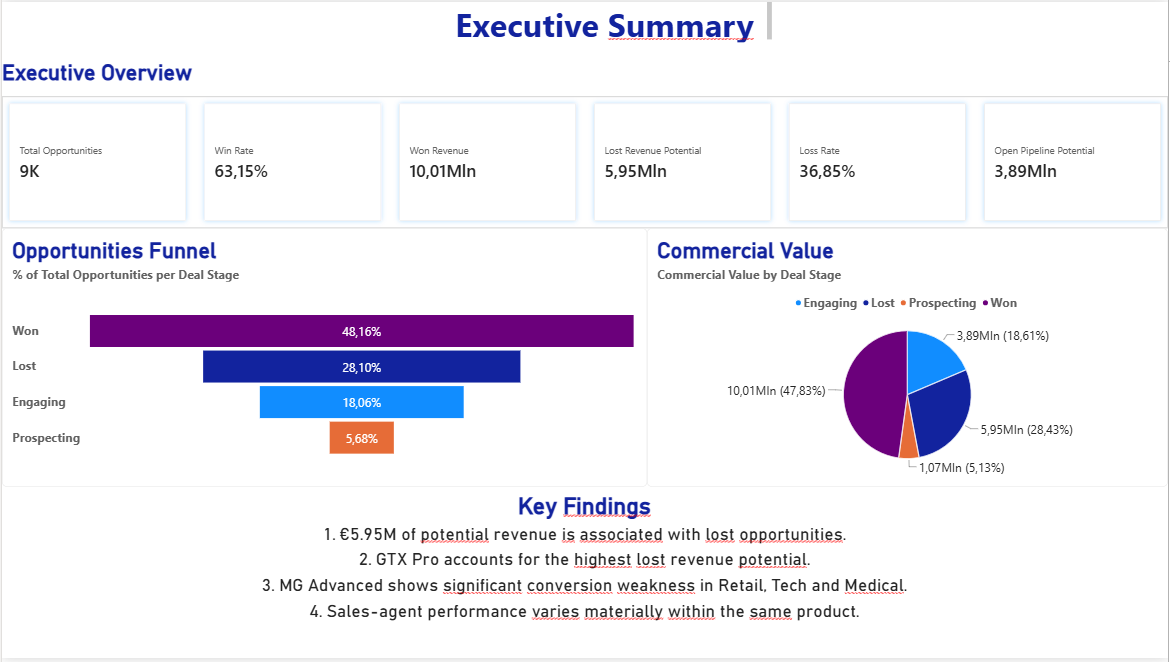

What the dashboard file says about the page in this screenshot:
{"tool":"powerbi","page":{"name":"Excecutive Summary","canvas":[1920,1080],"ordinal":0},"visuals":[{"type":"cardVisual","title":"Executive Overview","fields":{"Data":["public sales_pipeline.Total Opportunities","public sales_pipeline.Win Rate","public sales_pipeline.Won Revenue","public sales_pipeline.Lost Revenue Potential","public sales_pipeline.Loss Rate","public sales_pipeline.Open Pipeline Potential"]},"box":[0,94.1,1920.1,278.7],"z":0},{"type":"funnel","title":"Opportunities Funnel","fields":{"Category":["public sales_pipeline.deal_stage"],"Y":["public sales_pipeline.Total Opportunities"]},"box":[0,372.8,1062.3,425.3],"z":1000},{"type":"pieChart","title":"Commercial Value","fields":{"Series":["public sales_pipeline.deal_stage"],"Y":["public sales_pipeline.Commercial Value"]},"box":[1062.3,372.8,857.8,425.3],"z":2000},{"type":"textbox","box":[723.8,0,543.4,66.7],"z":3000},{"type":"textbox","box":[0,807.8,1918.2,271.5],"z":4000}]}

Visuals, with their boxes in screenshot pixels (x1, y1, x2, y2), scaled from the page's 1920x1080 canvas onto the 1170x662 screenshot:
"Executive Overview" cardVisual: {"x1": 0, "y1": 58, "x2": 1169, "y2": 229}
"Opportunities Funnel" funnel: {"x1": 0, "y1": 229, "x2": 647, "y2": 489}
"Commercial Value" pieChart: {"x1": 647, "y1": 229, "x2": 1169, "y2": 489}
textbox: {"x1": 441, "y1": 0, "x2": 772, "y2": 41}
textbox: {"x1": 0, "y1": 495, "x2": 1169, "y2": 661}
